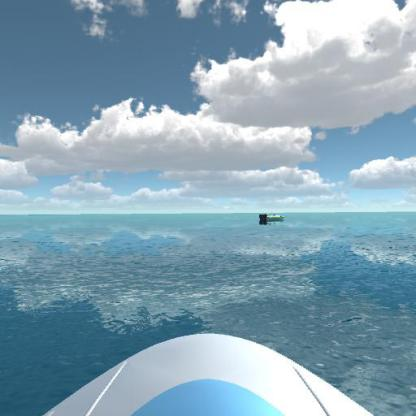usv0: (257, 210, 287, 227)
